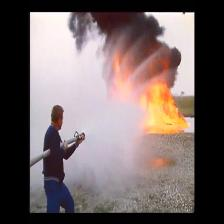fire: (111, 60, 186, 132)
smoke: (91, 12, 175, 58)
